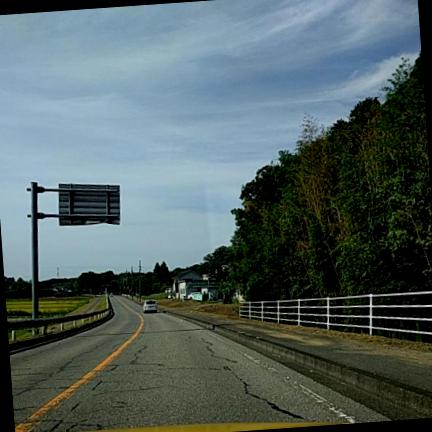Road: (10, 298, 386, 431)
